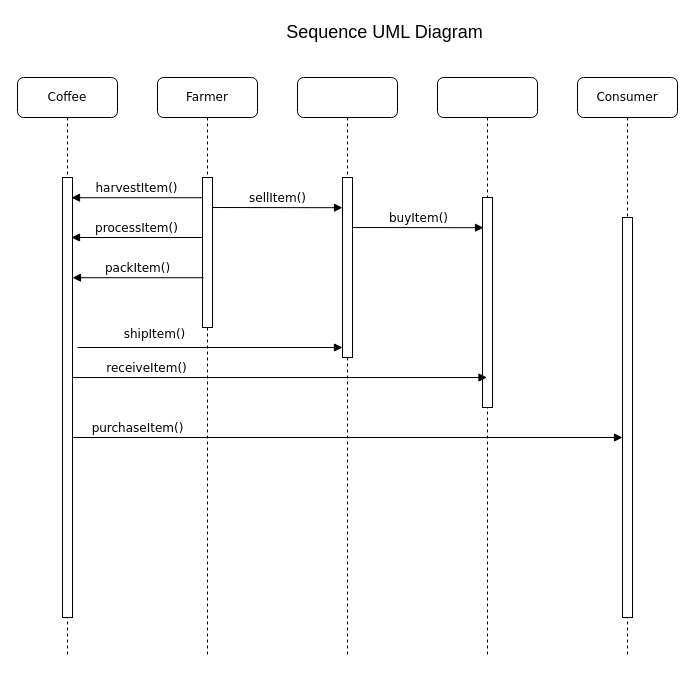
Some shapes in this 695 by 675 pixel diagram are drawn without their labels. The shapes that lost their labels are listed below. From the top down, each one's centre as x and y in pixels, then its label:
At (x=347, y=367): "Distributor".
At (x=487, y=367): "Retailer".
